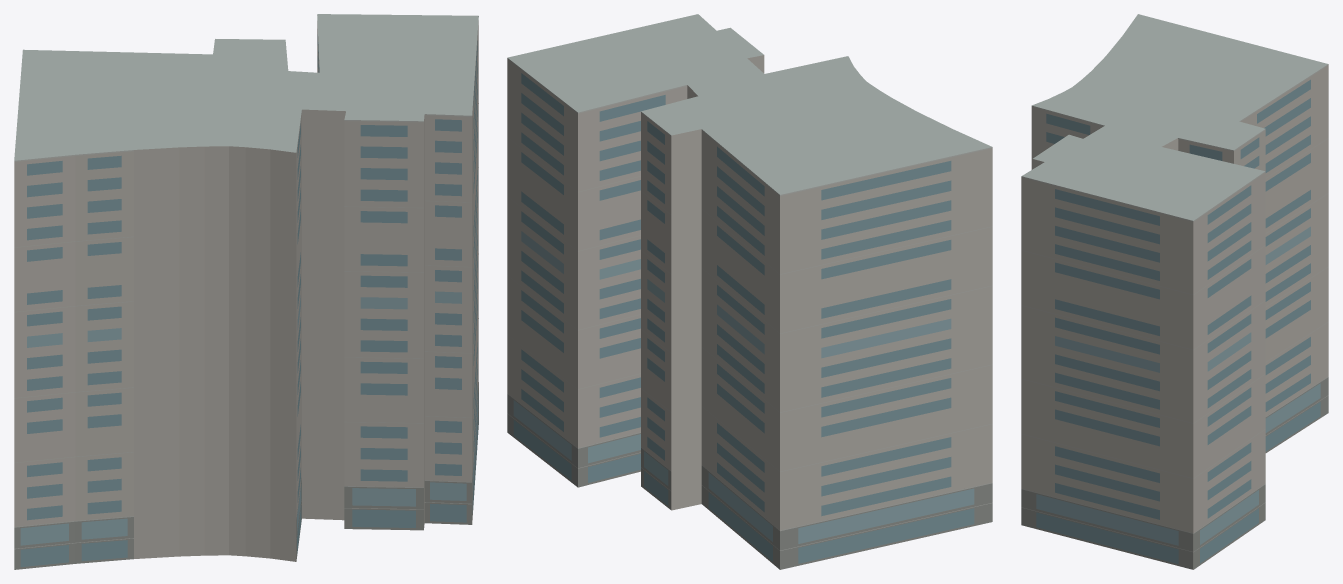
Rendered from survey-upis-32733823.glb.
The picture shows the model from 3 angles, left to right: view 1: azimuth 30°, elevation 25°; view 2: azimuth 150°, elevation 25°; view 3: azimuth 270°, elevation 25°; orthographic projection. The views are drawn at different scales.
Visible parts, largest first — view 1: survey-upis-32733823.tmp; view 2: survey-upis-32733823.tmp; view 3: survey-upis-32733823.tmp.
Part boxes in pixels (x1,y1,x2,y2): survey-upis-32733823.tmp: (14,14,478,569); survey-upis-32733823.tmp: (507,14,992,569); survey-upis-32733823.tmp: (1021,14,1328,569).
Bounding box in the file's own units: 103 × 81 × 64.61.
